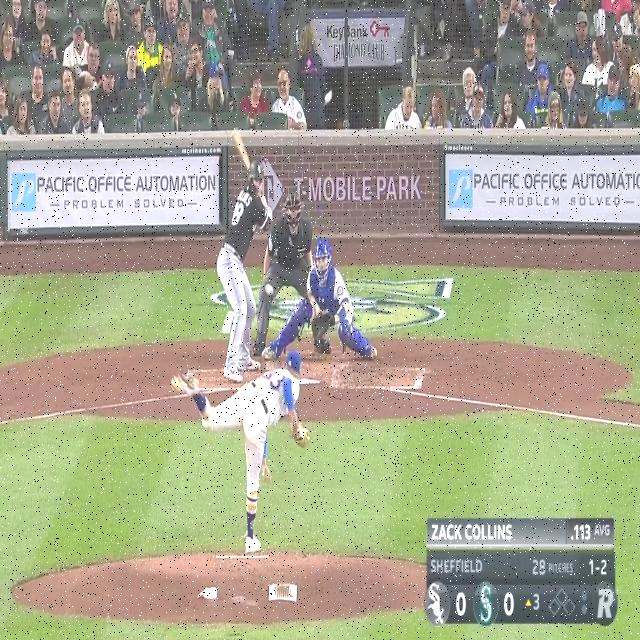baseball: (264, 282, 274, 297)
